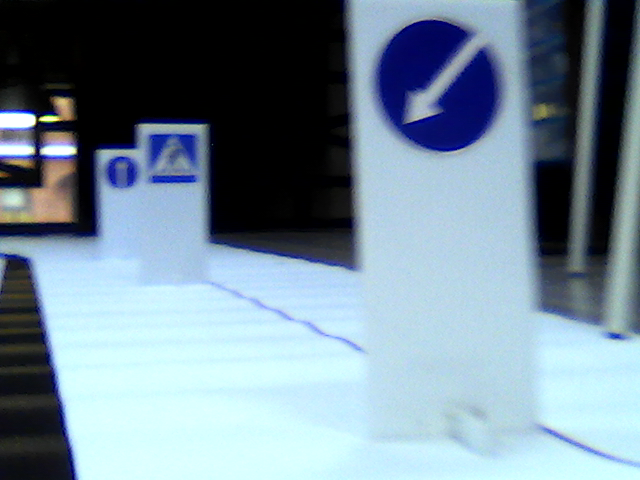pesh: (147, 130, 200, 185)
prep: (371, 16, 507, 158)
